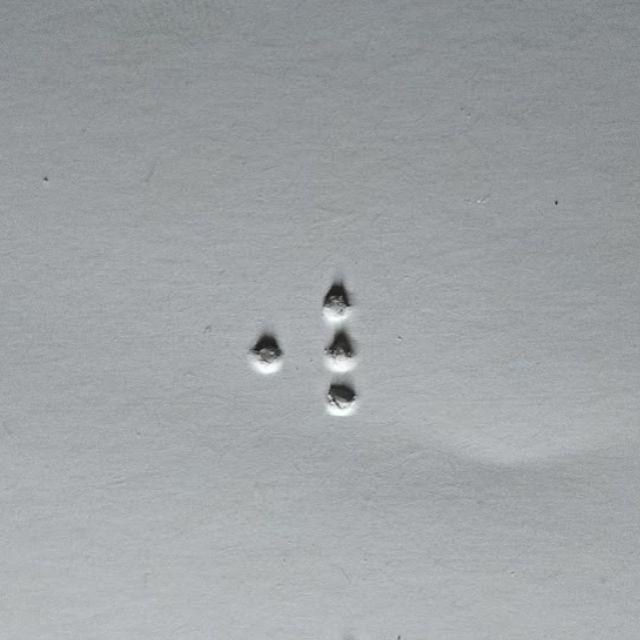dot_5: (201, 285, 284, 417)
larawan: (323, 286, 406, 418)
